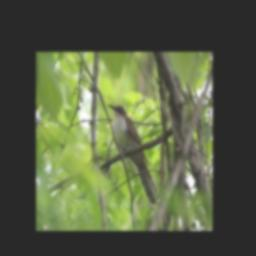Cuckoo: (107, 101, 160, 207)
